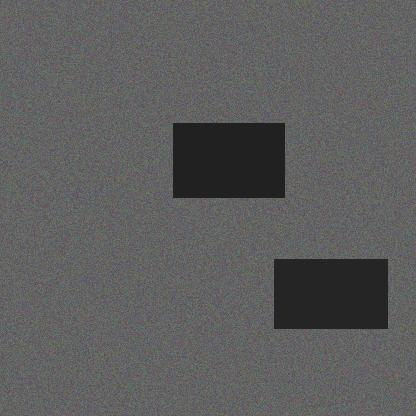empty: (69, 272, 142, 349), (233, 223, 292, 280)
